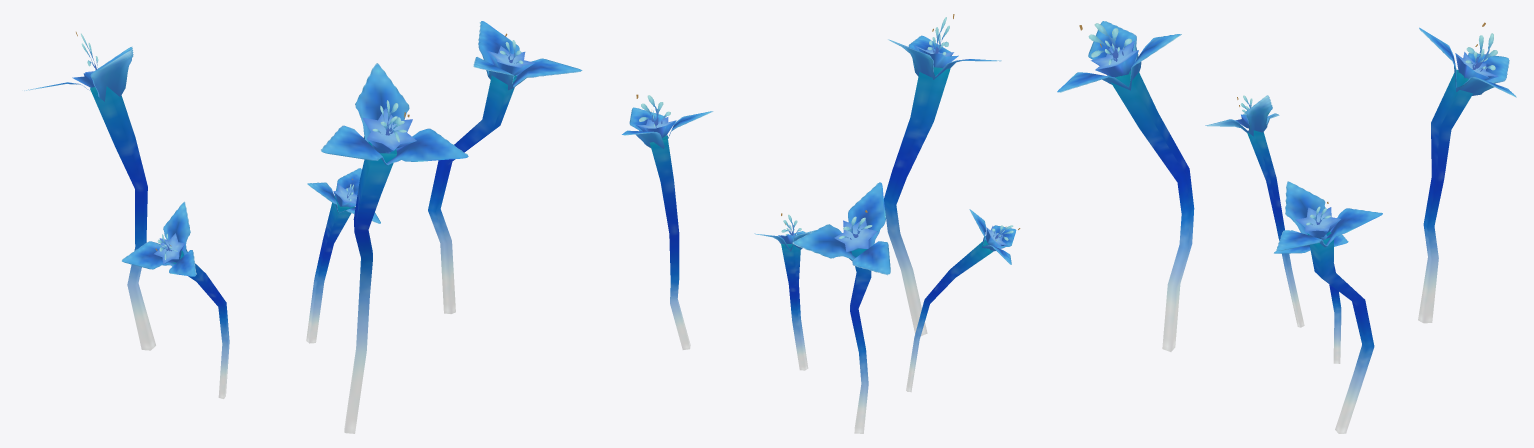
File: P_FlowersIce03.obj
The picture shows the model from 3 angles, left to right: view 1: azimuth 30°, elevation 25°; view 2: azimuth 150°, elevation 25°; view 3: azimuth 270°, elevation 25°; orthographic projection. The views are drawn at different scales.
Bounding box in the file's own units: 1.22 × 0.9165 × 1.14.
